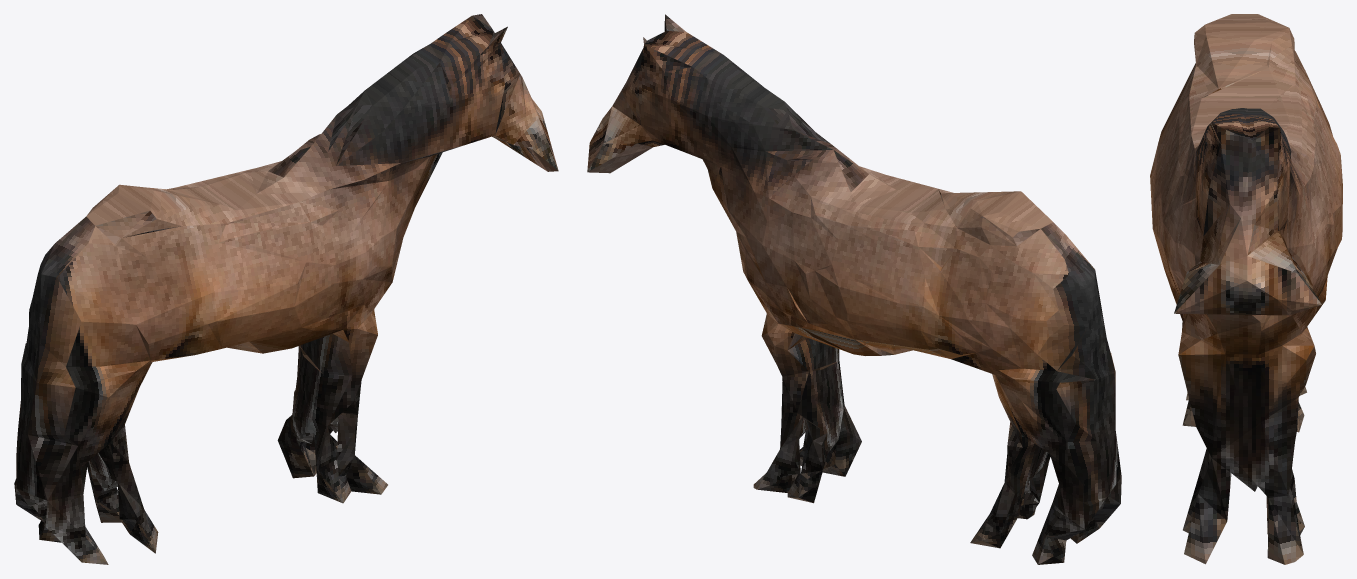
The model's file is animal.montura.caballo_guerra.glb.
The picture shows the model from 3 angles, left to right: view 1: azimuth 30°, elevation 25°; view 2: azimuth 150°, elevation 25°; view 3: azimuth 270°, elevation 25°; orthographic projection. The views are drawn at different scales.
Parts seen in each view (by area): view 1: animal.montura.caballo_guerra; view 2: animal.montura.caballo_guerra; view 3: animal.montura.caballo_guerra.
Part boxes in pixels (<box>): animal.montura.caballo_guerra: <box>14,14,558,564</box>; animal.montura.caballo_guerra: <box>587,14,1121,564</box>; animal.montura.caballo_guerra: <box>1150,14,1342,564</box>.
Bounding box in the file's own units: 2.4 × 1.91 × 0.6411.
Materials: 1 (1 with a texture image).
